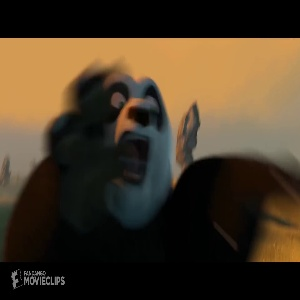po: (9, 56, 257, 263)
